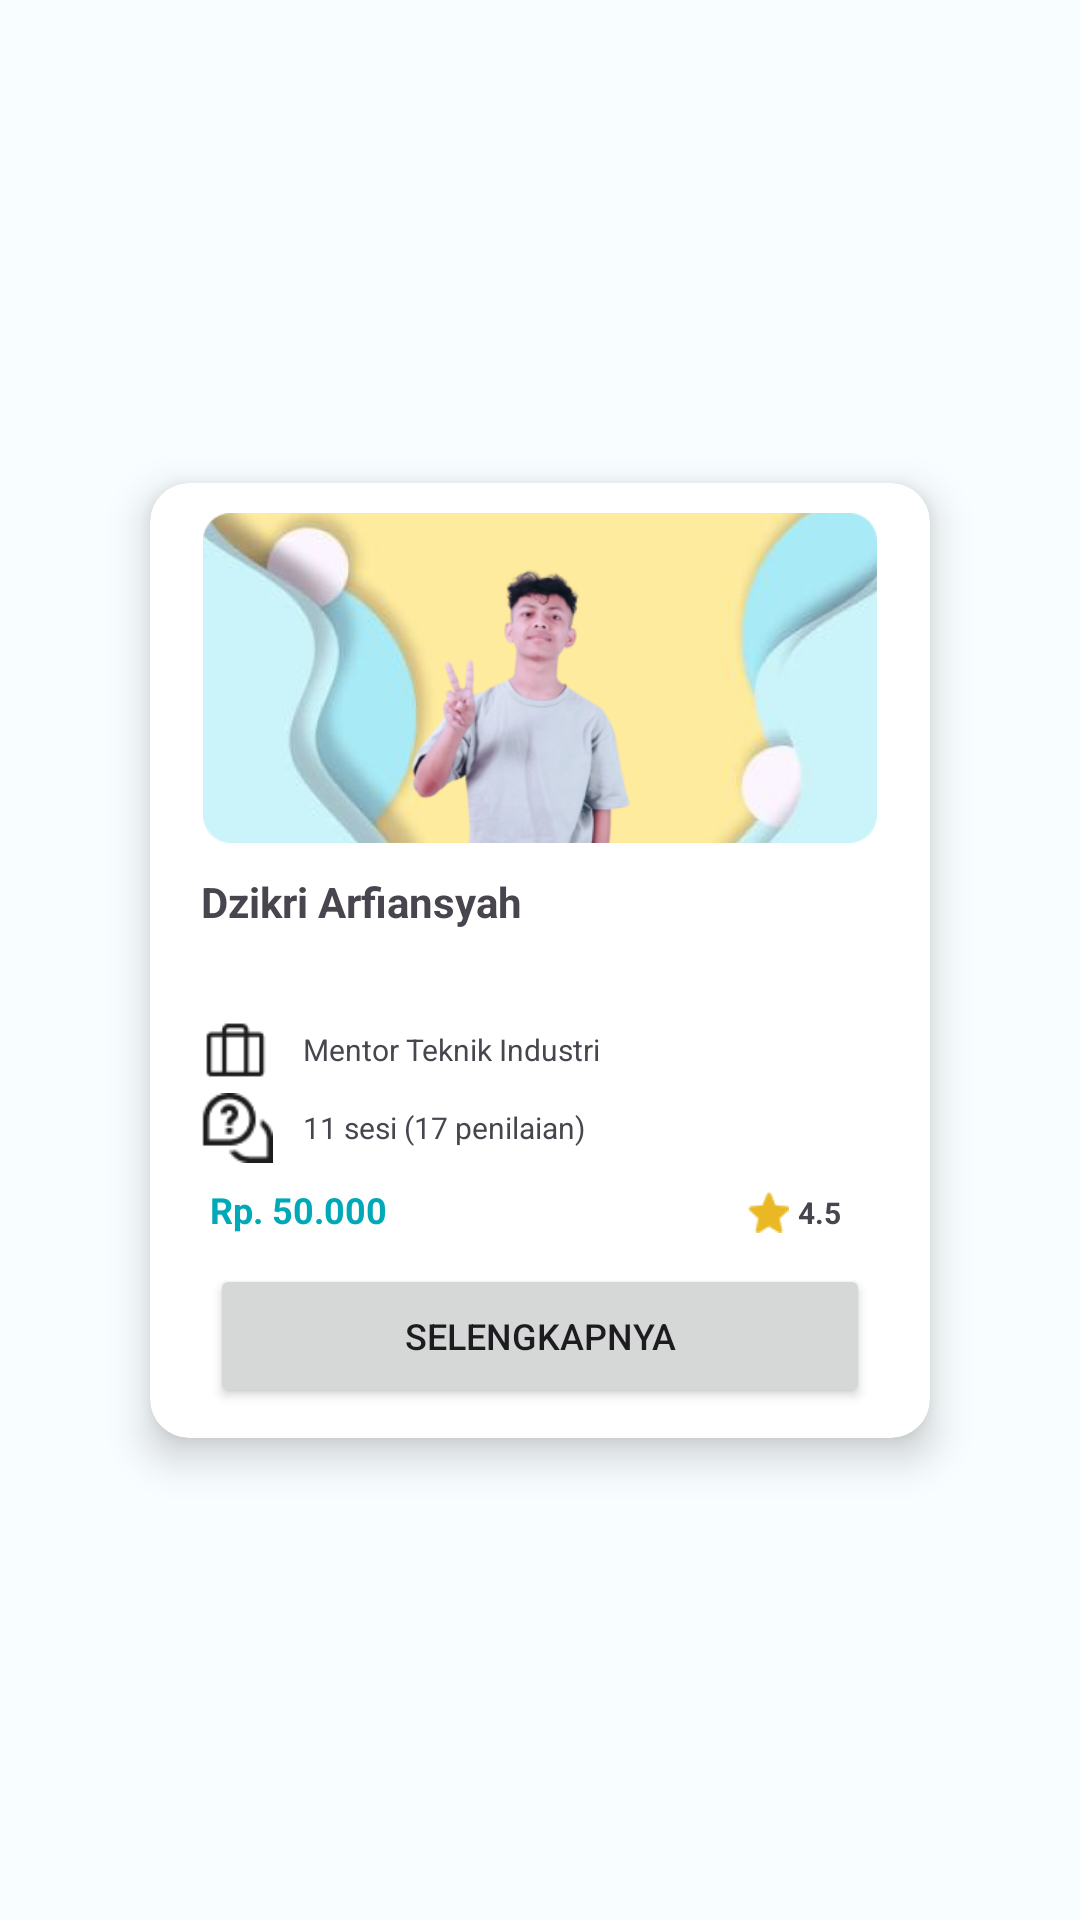

Where icons sit on this 1080x1920 app screen, as (x1, y1, x2, y2):
bintang: (748, 1192, 789, 1233)
kerja: (206, 1023, 265, 1077)
